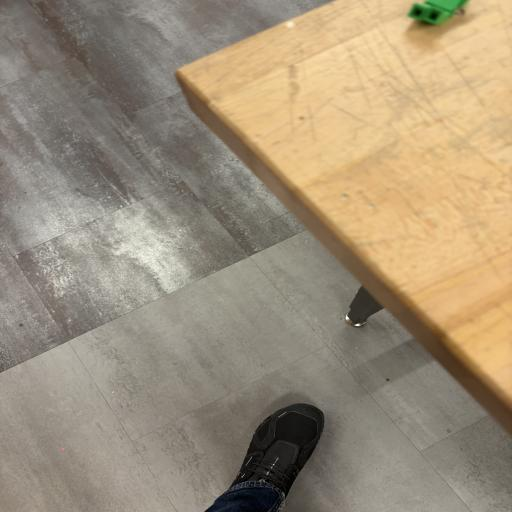Green-Lego: (409, 0, 469, 26)
